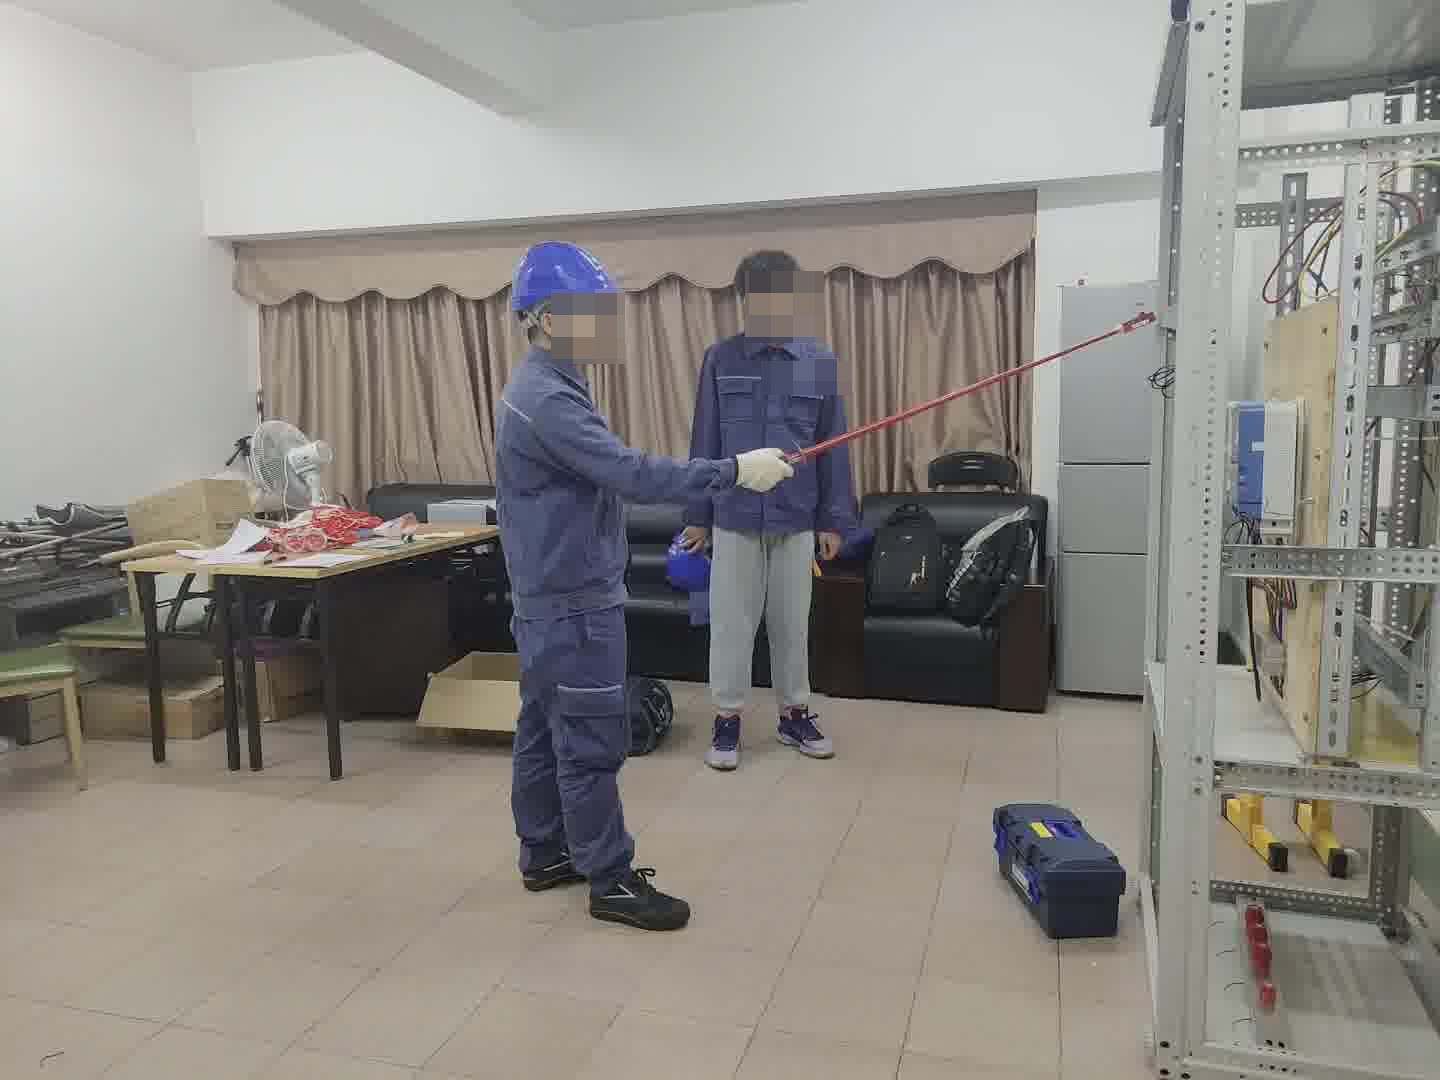downcloth: (697, 525, 816, 714)
downsuit: (506, 626, 638, 875)
halt: (508, 240, 624, 357)
hand: (676, 522, 709, 564), (818, 528, 844, 558)
inear: (522, 304, 576, 356)
noear: (739, 288, 766, 329)
person: (487, 234, 679, 924), (698, 241, 867, 788)
testrod: (778, 304, 1170, 469)
unhalt: (732, 247, 807, 337)
upsuit: (491, 348, 661, 607), (692, 326, 869, 543)
wglove: (723, 445, 795, 508)
